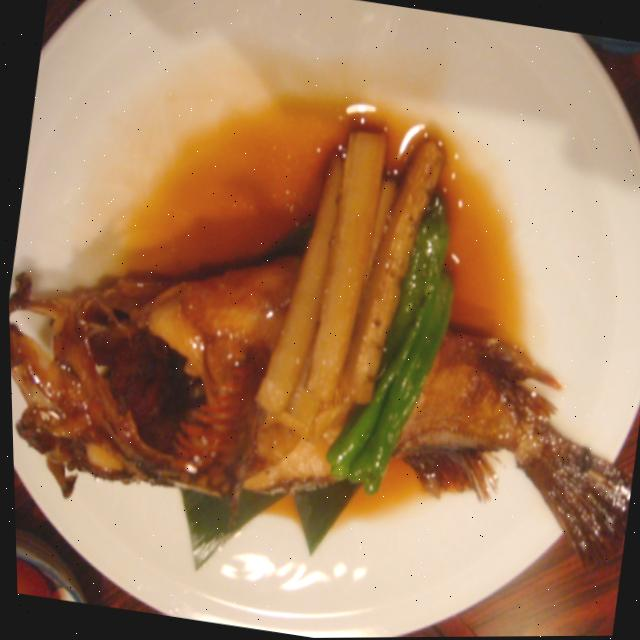熟制海鲜: (4, 147, 640, 617)
